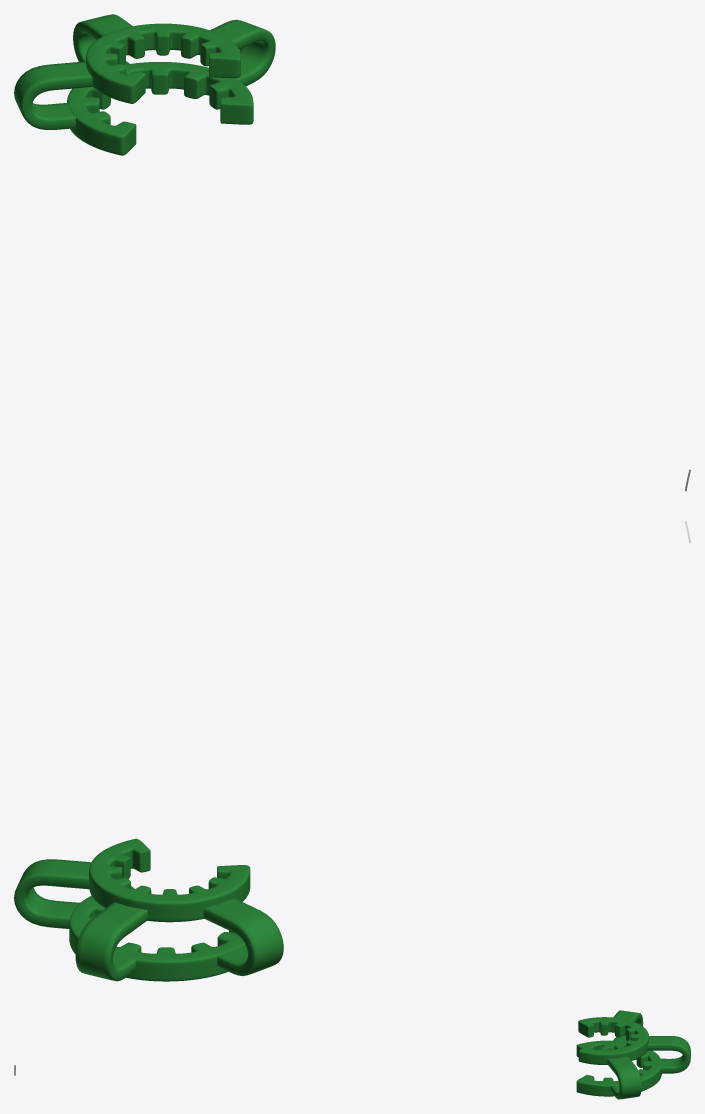
File: 5-NoMachine_BumpTrapClip_WA.glb
The picture shows the model from 3 angles, top to bottom: view 1: azimuth 30°, elevation 25°; view 2: azimuth 150°, elevation 25°; view 3: azimuth 270°, elevation 25°; orthographic projection. The views are drawn at different scales.
Visible parts, largest first — view 1: Keck clip; view 2: Keck clip; view 3: Keck clip.
Part boxes in pixels (x1,y1,x2,y2): Keck clip: (14,14,275,155); Keck clip: (14,838,283,981); Keck clip: (576,1010,690,1099).
Bounding box in the file's own units: 0.8633 × 0.221 × 3.46.
